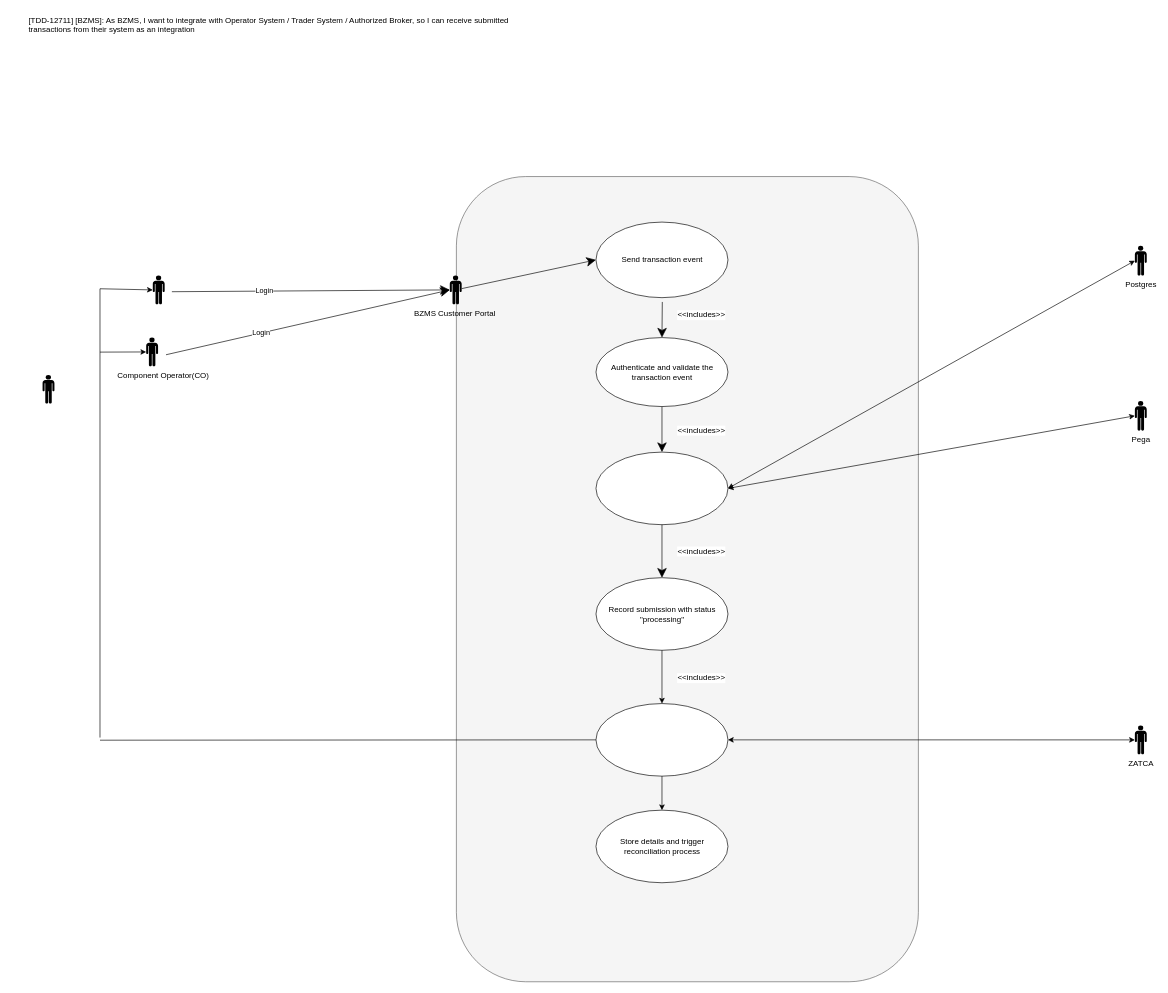
Some shapes in this 1168 by 993 pixel diagram are drawn without their labels. The shapes that lost their labels are listed below. From the top down, each one's centre as x and y in pixels, then its label:
(x=158, y=289): Operator/Trader/Broker
(x=48, y=389): Authorized Applicant
(x=661, y=488): Map external event to transaction event
(x=661, y=739): Notification sent "Processed"
